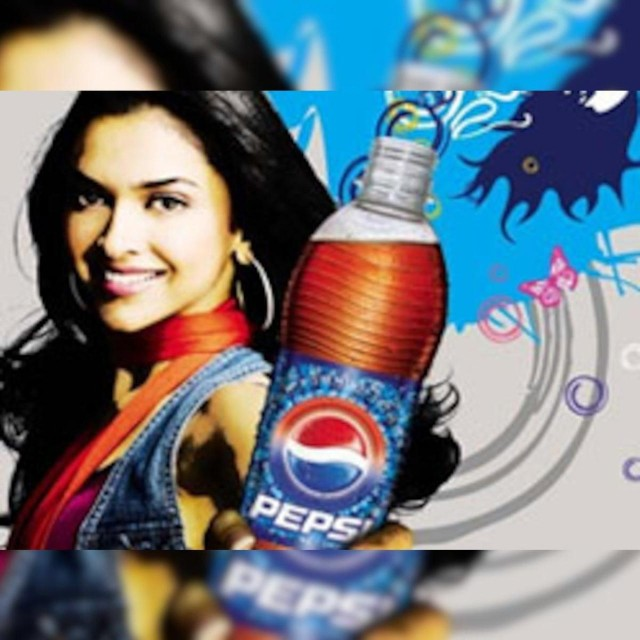pepsi: (279, 412, 375, 499)
